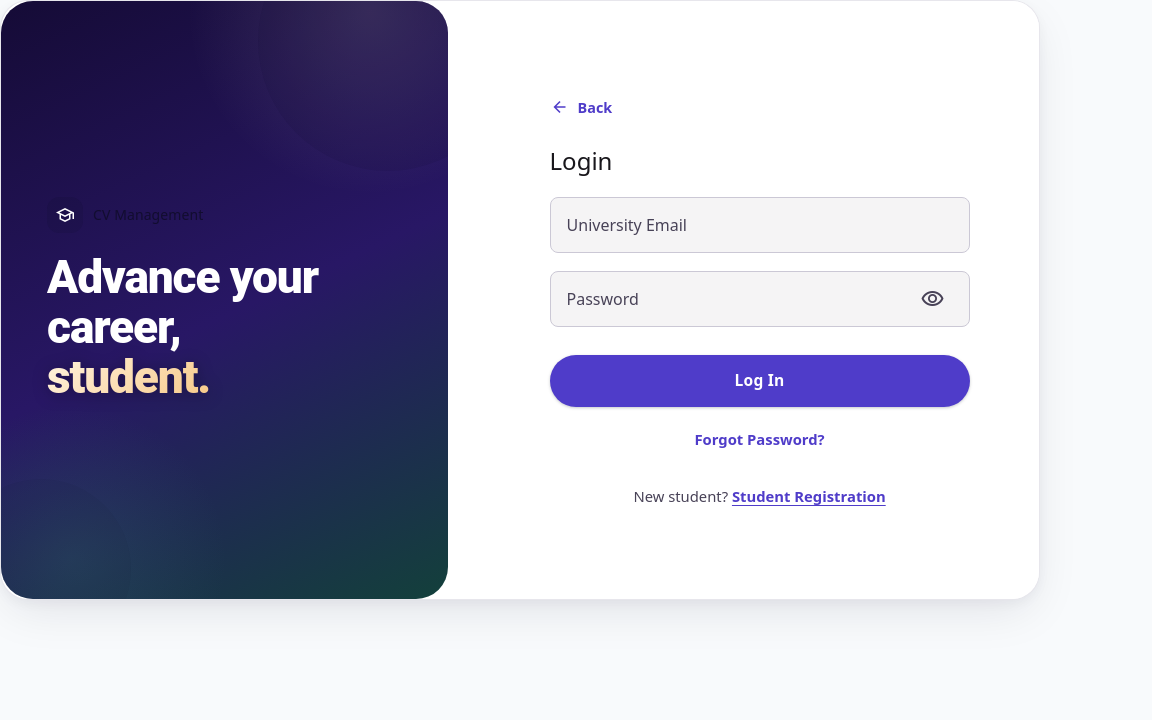
student Sprint 2 authentication › rejects incorrect local Student test credentials safely
Type "student@dcs.ruh.ac.lk" into the field labelled "University Email" at (760, 225), box [566,198,952,252]
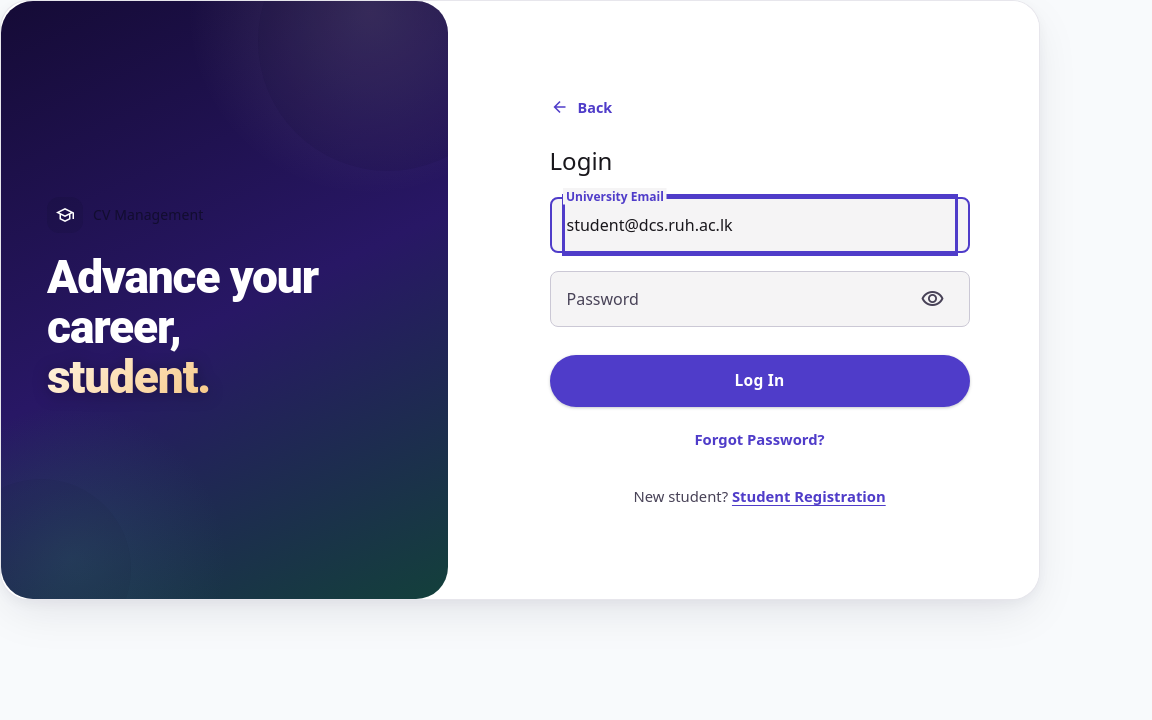
Type "WrongPassword@123" into the password field labelled "Password" at (738, 299), box [566,272,908,326]
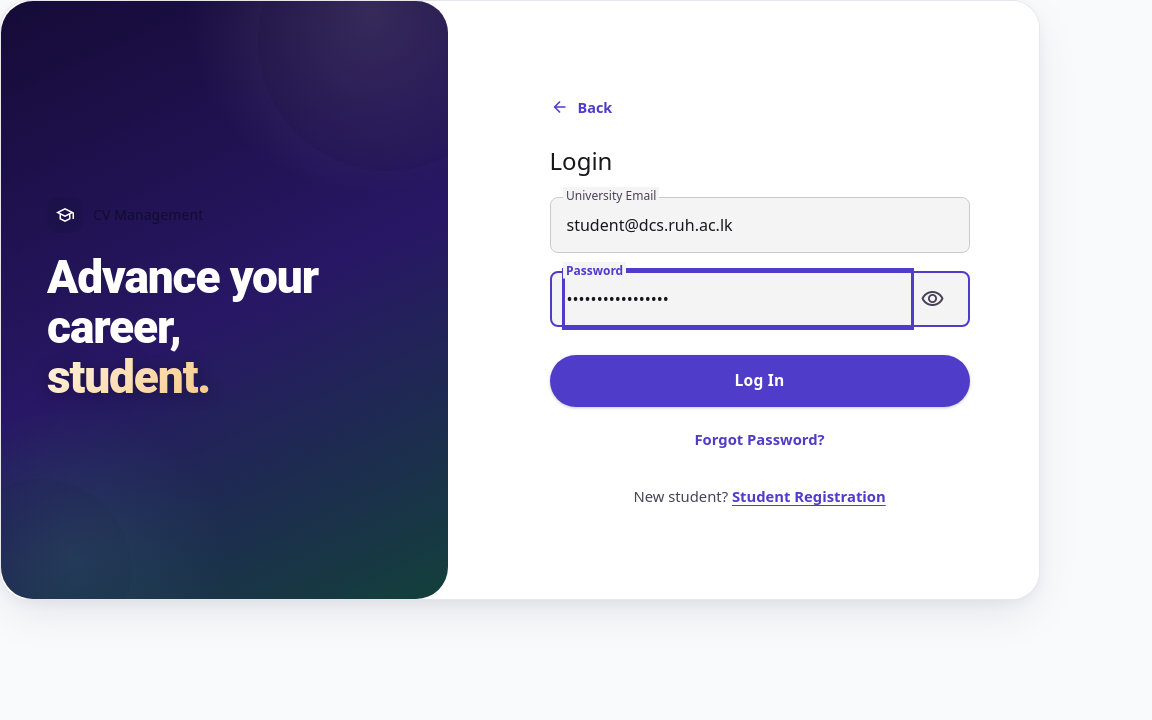
Click the button "Log In" at (760, 381), box [550,355,970,407]
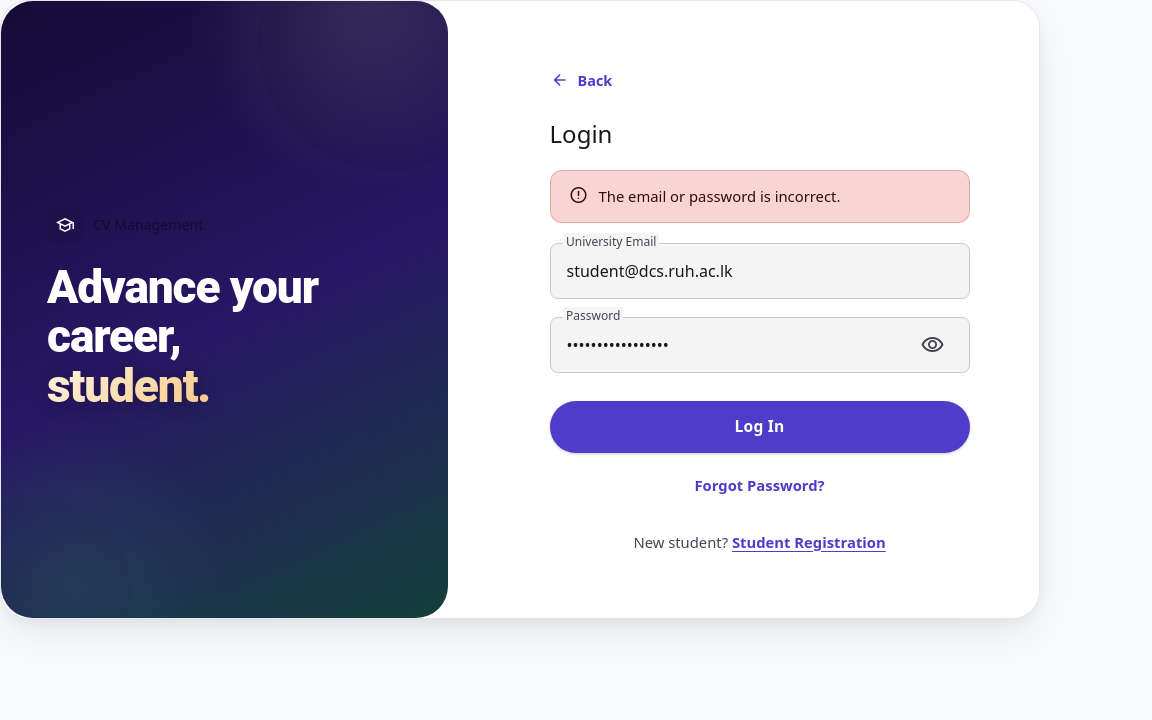
Result: the message reads "The email or password is incorrect." at [598,186,840,206]
